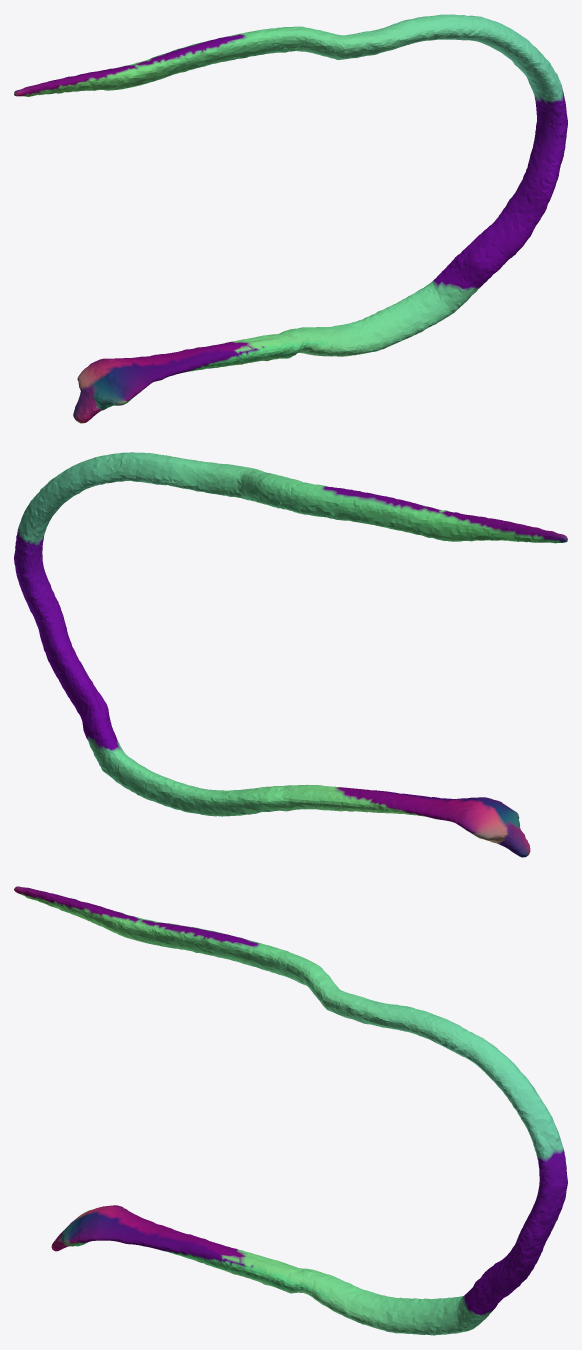
File: snake-2.off.obj
3 views of the same model, one above another, from view 1: azimuth 30°, elevation 25°; view 2: azimuth 150°, elevation 25°; view 3: azimuth 330°, elevation 25° (orthographic).
Bounding box in the file's own units: 1.34 × 0.8274 × 0.1958.
